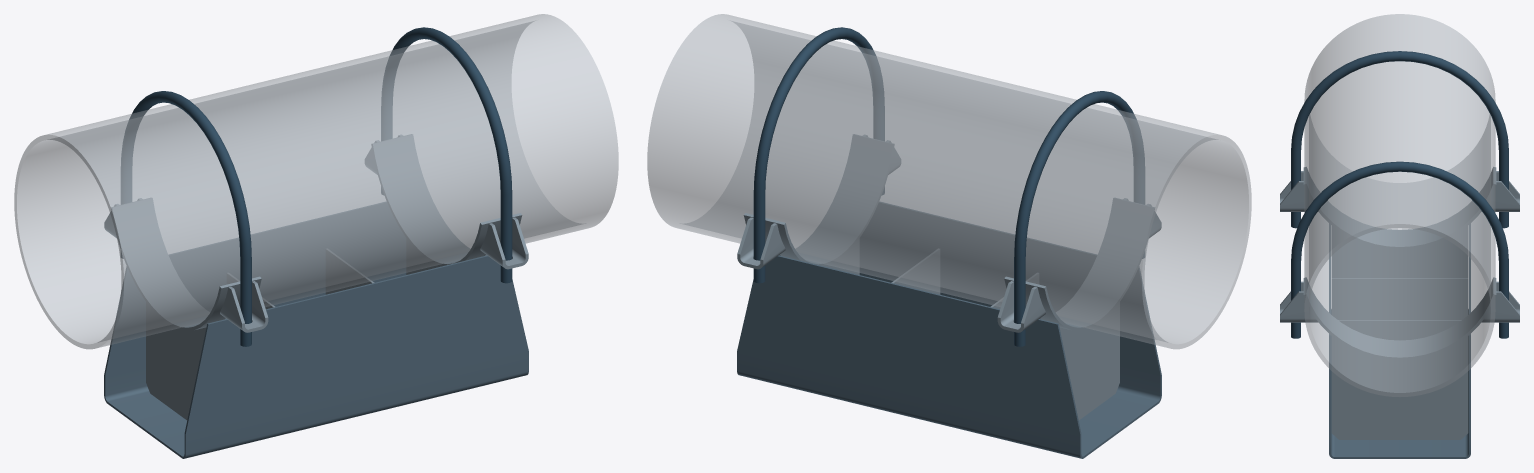
File: TS-626.00.000-095-opora-dn377-H200-L680.glb
3 views of the same model, side by side, from view 1: azimuth 30°, elevation 25°; view 2: azimuth 150°, elevation 25°; view 3: azimuth 270°, elevation 25° (orthographic). The views are drawn at different scales.
Visible parts, largest first — view 1: truba, skoba_0, podushka_5, podushka_6, homut_1, homut_0, rebro4_1, ushko_10, ushko_8, rebro5_4; view 2: truba, skoba_0, podushka_5, podushka_6, homut_1, homut_0, rebro4_1, ushko_9, ushko_7, rebro5_4; view 3: truba, rebro4_2, rebro5_3, rebro4_1, homut_1, homut_0, podushka_6, podushka_5, skoba_0, rebro5_4, ushko_9, ushko_10 (+2 smaller).
Boxes of the visible parts, x1,y1,x2,y2 form: truba: (14,14,618,349); skoba_0: (104,202,528,458); podushka_5: (111,198,261,331); podushka_6: (371,134,522,266); homut_1: (381,27,512,283); homut_0: (121,91,251,346); rebro4_1: (146,302,226,420); ushko_10: (480,217,528,269); ushko_8: (220,281,268,332); rebro5_4: (325,249,374,294); truba: (647,14,1251,349); skoba_0: (737,202,1161,458); podushka_5: (1004,198,1154,331); podushka_6: (743,134,894,266); homut_1: (753,27,884,283); homut_0: (1014,91,1144,346); rebro4_1: (1039,302,1119,420); ushko_9: (737,217,785,269); ushko_7: (997,281,1045,332); rebro5_4: (891,249,940,294); truba: (1304,14,1495,396); rebro4_2: (1331,336,1468,439); rebro5_3: (1331,278,1468,319); rebro4_1: (1331,226,1468,277); homut_1: (1291,161,1508,338); homut_0: (1291,51,1508,228); podushka_6: (1303,277,1496,360); podushka_5: (1303,167,1496,249); skoba_0: (1329,224,1470,458); rebro5_4: (1338,320,1461,340); ushko_9: (1481,281,1519,322); ushko_10: (1280,281,1318,322).
Size of the model in its own units: 980 by 608 by 473.
